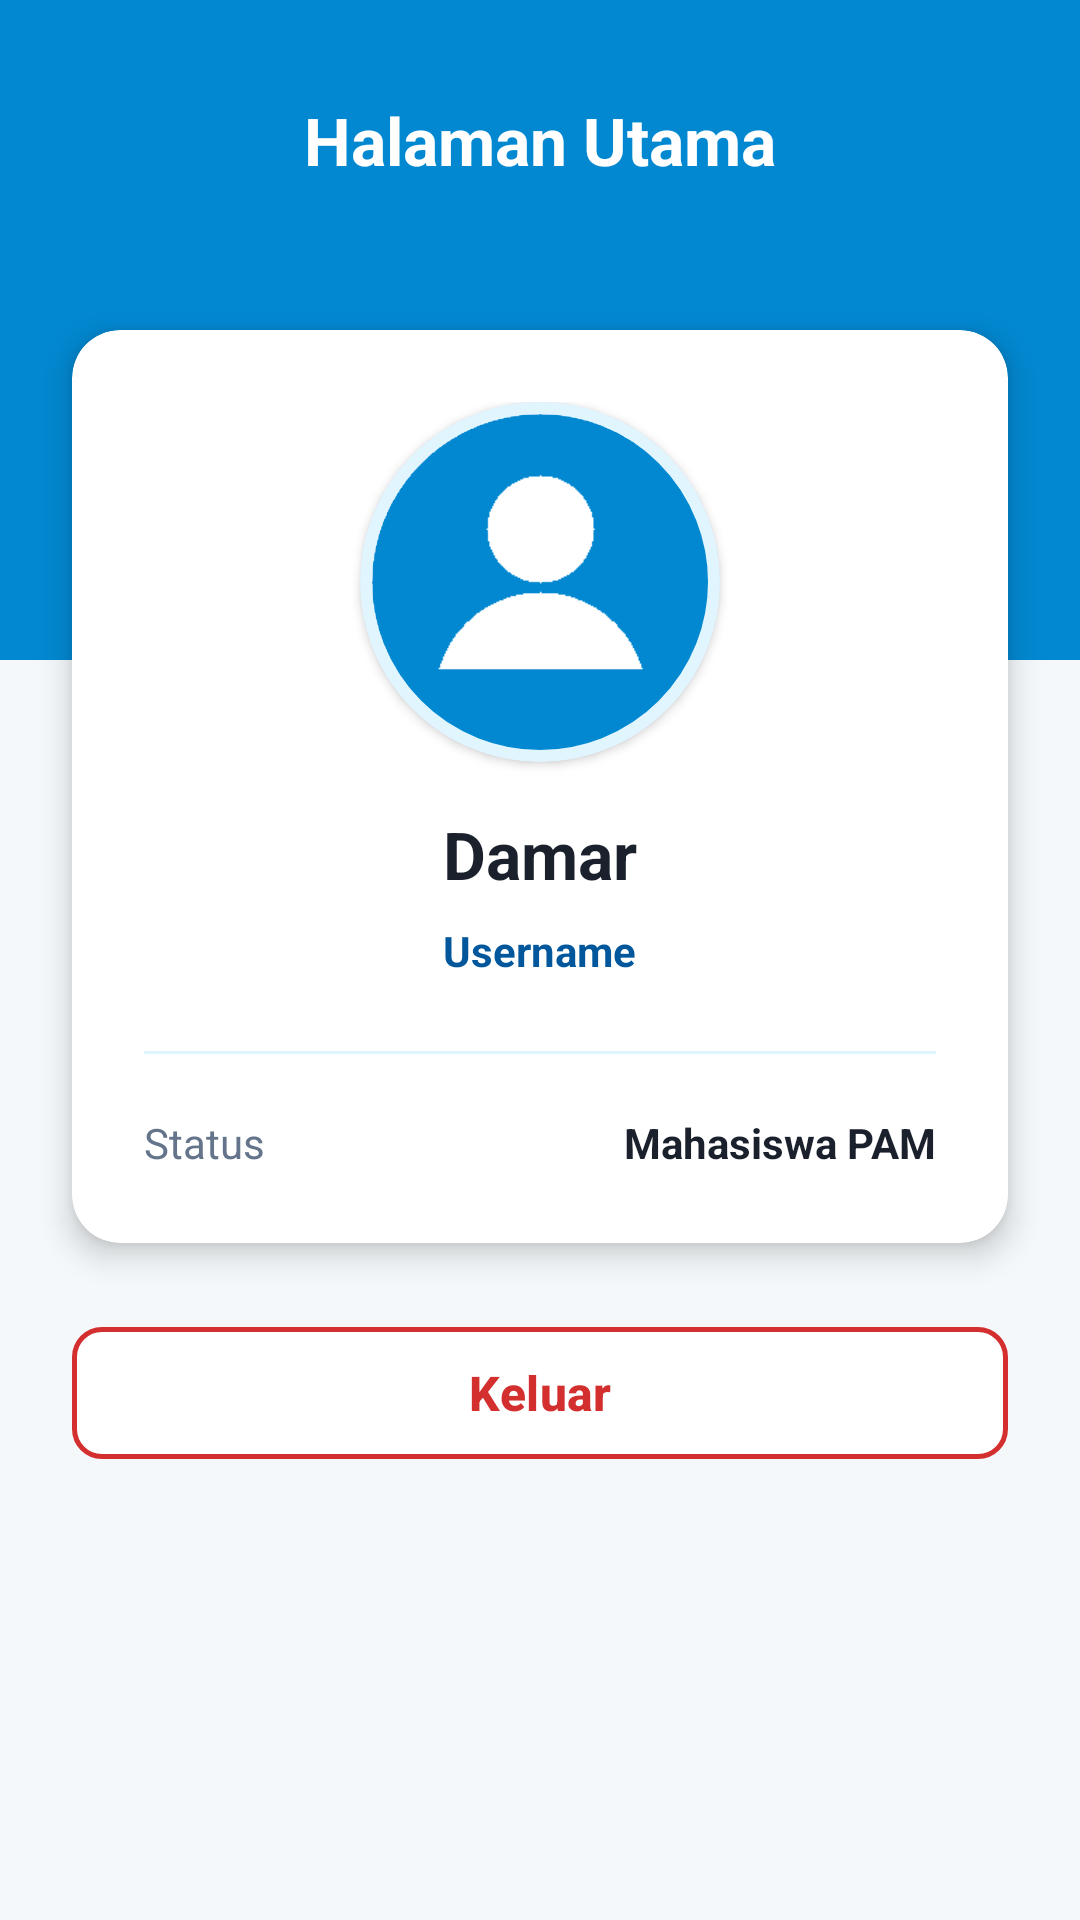

Icons on this 1080*1920 Android screen, each with its box as (x1, y1, x2, y2):
Profil Saya: (360, 402, 720, 762)
